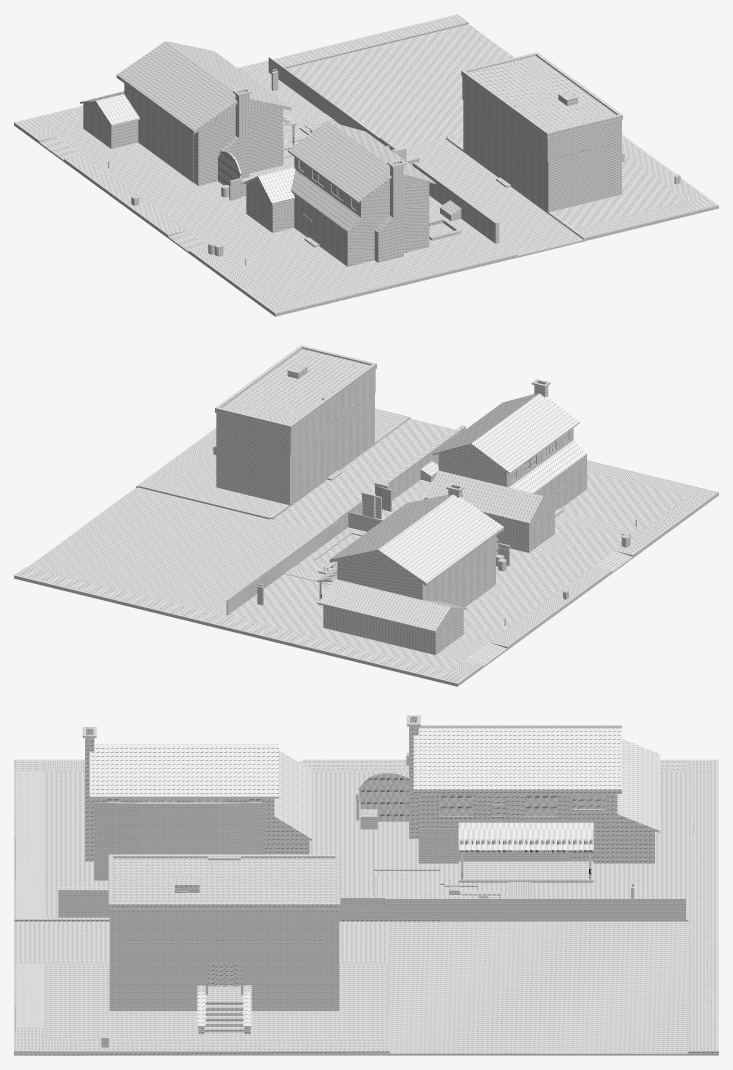
File: simpson-central.obj
3 renders of one model, top to bottom at view 1: azimuth 30°, elevation 25°; view 2: azimuth 150°, elevation 25°; view 3: azimuth 270°, elevation 25°, orthographic. The views are drawn at different scales.
Parts seen in each view (by area): view 1: entity0_brush25, entity0_brush260, entity0_brush258, entity0_brush830, entity0_brush227, entity0_brush241, entity0_brush831, entity0_brush180, entity0_brush259, entity0_brush591, entity0_brush478, entity0_brush828 (+40 smaller); view 2: entity0_brush25, entity0_brush260, entity0_brush478, entity0_brush258, entity0_brush834, entity0_brush227, entity0_brush835, entity0_brush241, entity0_brush27, entity0_brush180, entity0_brush659, entity0_brush259 (+27 smaller); view 3: entity0_brush25, entity0_brush259, entity0_brush228, entity0_brush260, entity0_brush208, entity0_brush241, entity0_brush829, entity0_brush478, entity0_brush27, entity0_brush830, entity0_brush834, entity0_brush258 (+33 smaller).
Part boxes in pixels (x1,y1,x2,y2): entity0_brush25: [286, 24, 514, 148]; entity0_brush260: [161, 195, 503, 300]; entity0_brush258: [406, 138, 585, 257]; entity0_brush830: [512, 140, 621, 213]; entity0_brush227: [116, 41, 235, 132]; entity0_brush241: [468, 56, 614, 130]; entity0_brush831: [511, 90, 621, 161]; entity0_brush180: [288, 121, 389, 201]; entity0_brush259: [447, 132, 687, 229]; entity0_brush591: [200, 108, 281, 185]; entity0_brush478: [44, 71, 339, 183]; entity0_brush828: [124, 83, 193, 182]; entity0_brush25: [14, 487, 319, 627]; entity0_brush260: [346, 471, 688, 585]; entity0_brush478: [226, 559, 528, 670]; entity0_brush258: [270, 418, 455, 531]; entity0_brush834: [216, 429, 326, 505]; entity0_brush227: [378, 494, 501, 586]; entity0_brush835: [216, 383, 326, 454]; entity0_brush241: [224, 349, 369, 417]; entity0_brush27: [15, 567, 437, 675]; entity0_brush180: [471, 393, 578, 473]; entity0_brush659: [318, 578, 451, 632]; entity0_brush259: [156, 419, 396, 519]; entity0_brush25: [387, 921, 718, 1055]; entity0_brush259: [44, 964, 387, 1038]; entity0_brush228: [418, 728, 621, 793]; entity0_brush260: [44, 771, 373, 917]; entity0_brush208: [94, 744, 278, 798]; entity0_brush241: [113, 858, 335, 902]; entity0_brush829: [94, 802, 264, 880]; entity0_brush478: [477, 771, 688, 921]; entity0_brush27: [688, 779, 716, 1055]; entity0_brush830: [109, 942, 207, 1010]; entity0_brush834: [241, 942, 339, 1010]; entity0_brush258: [14, 921, 387, 963].
Bounding box in the file's own units: 2336 × 608 × 2384.
